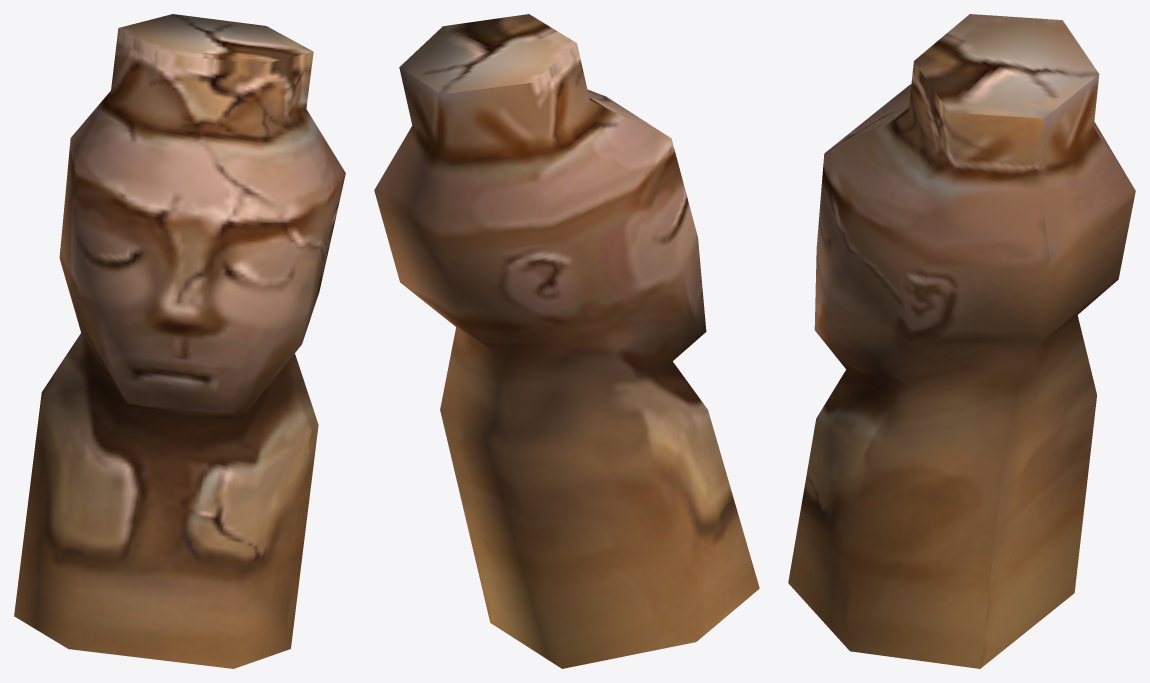
3 views of the same model, side by side, from view 1: azimuth 30°, elevation 25°; view 2: azimuth 150°, elevation 25°; view 3: azimuth 270°, elevation 25° (orthographic). The views are drawn at different scales.
Parts seen in each view (by area): view 1: 对象001; view 2: 对象001; view 3: 对象001.
Part boxes in pixels (left/top/right/bottom): 对象001: left=14, top=14, right=345, bottom=668; 对象001: left=374, top=14, right=759, bottom=668; 对象001: left=788, top=14, right=1135, bottom=668.
Bounding box in the file's own units: 604 × 572 × 1114.
